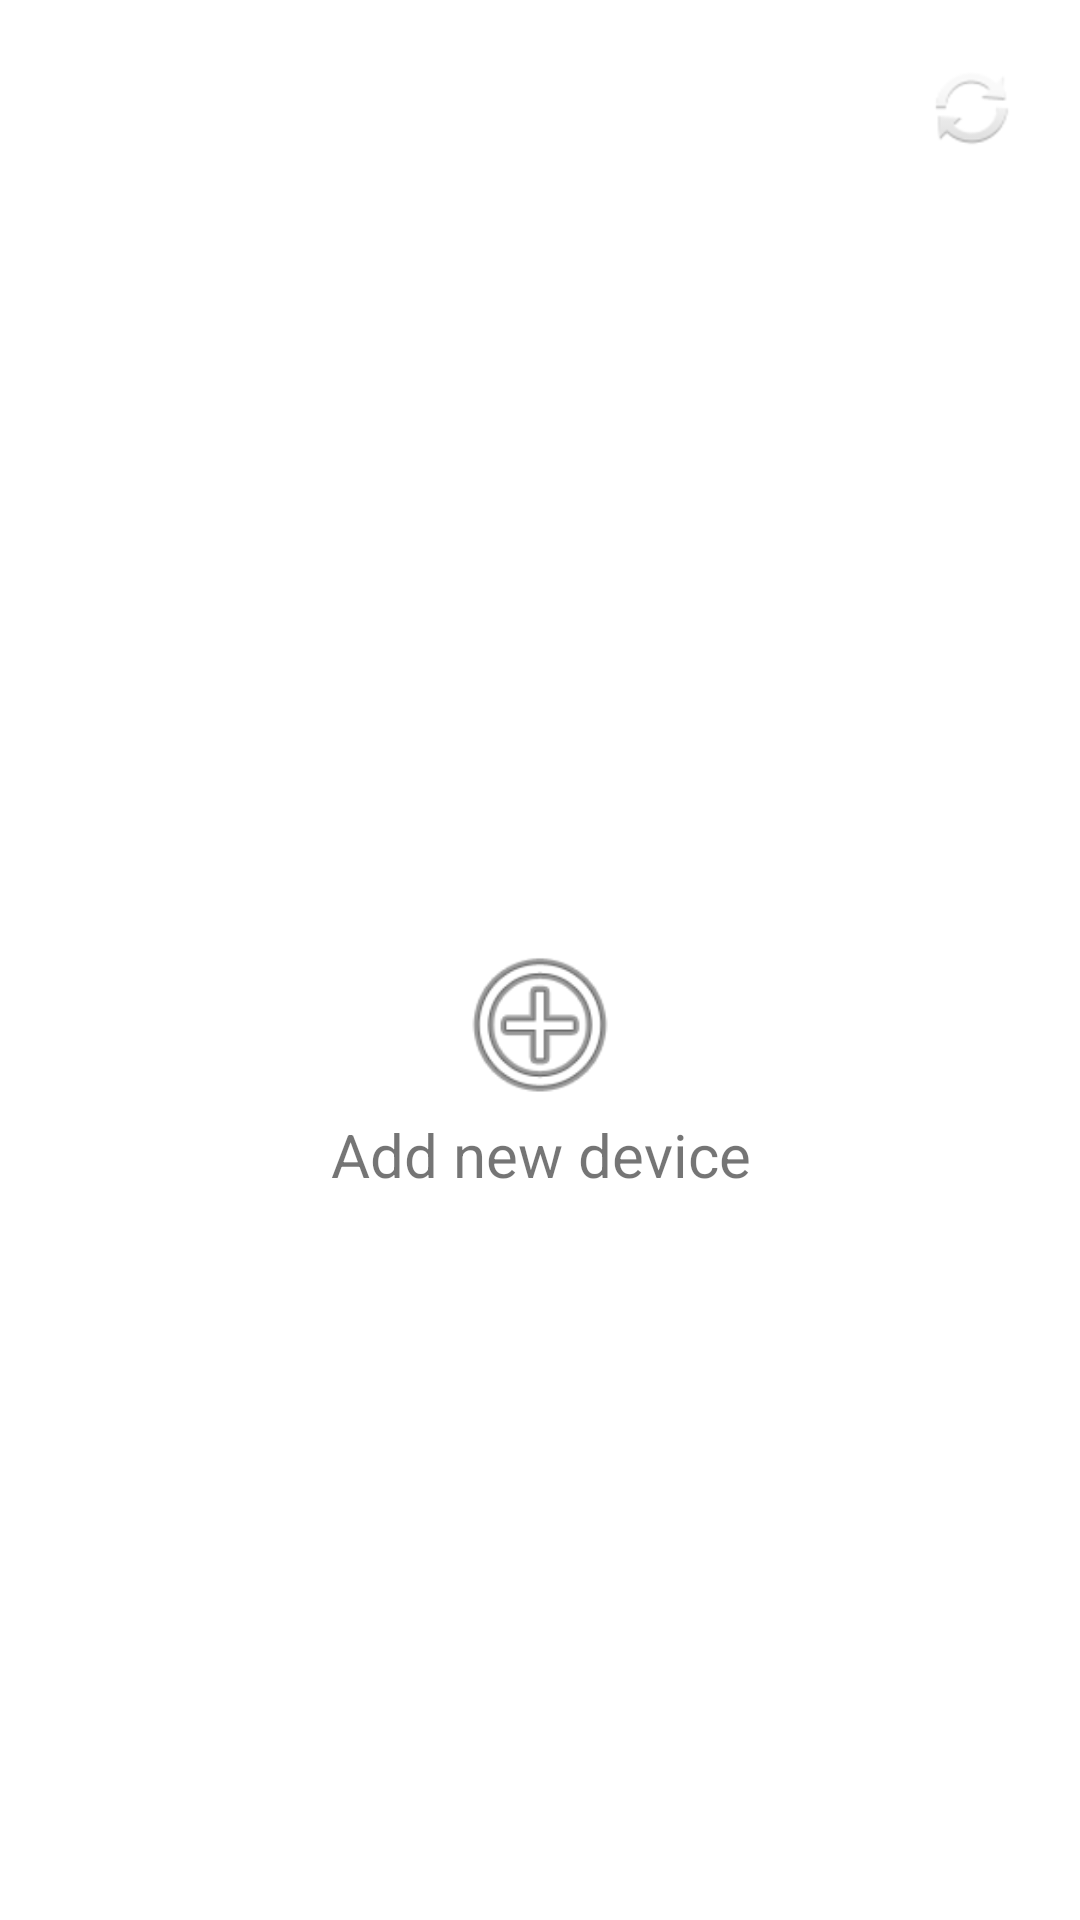

Icons on this 1080w x 1920h Android screen, each with the point to tap as (x=x, y=y):
Refresh: (x=971, y=112)
